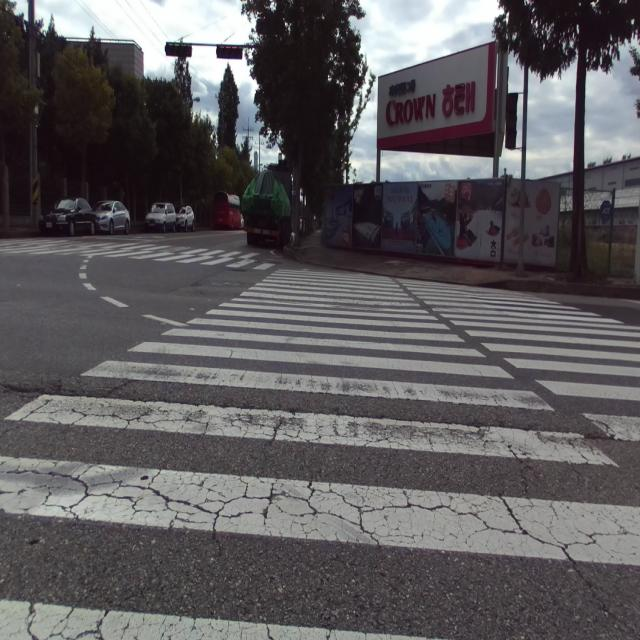횡단보도: (0, 268, 640, 640), (1, 232, 272, 268)
